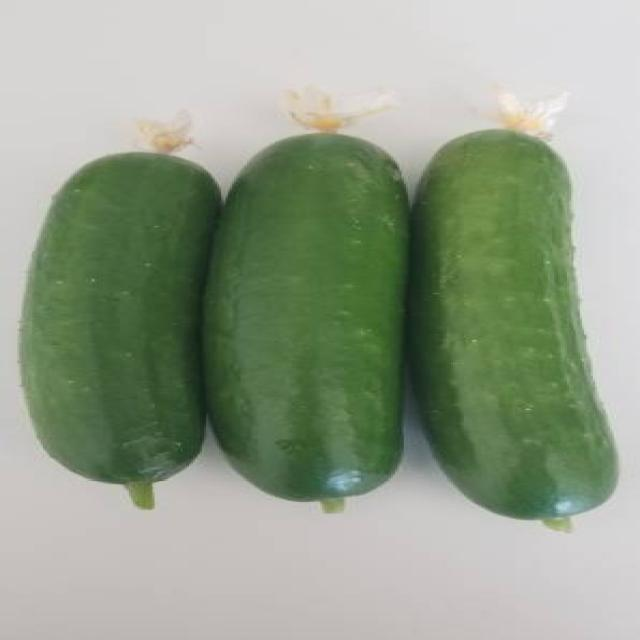cucumber: (405, 130, 621, 522), (203, 128, 414, 501), (19, 152, 216, 488)
